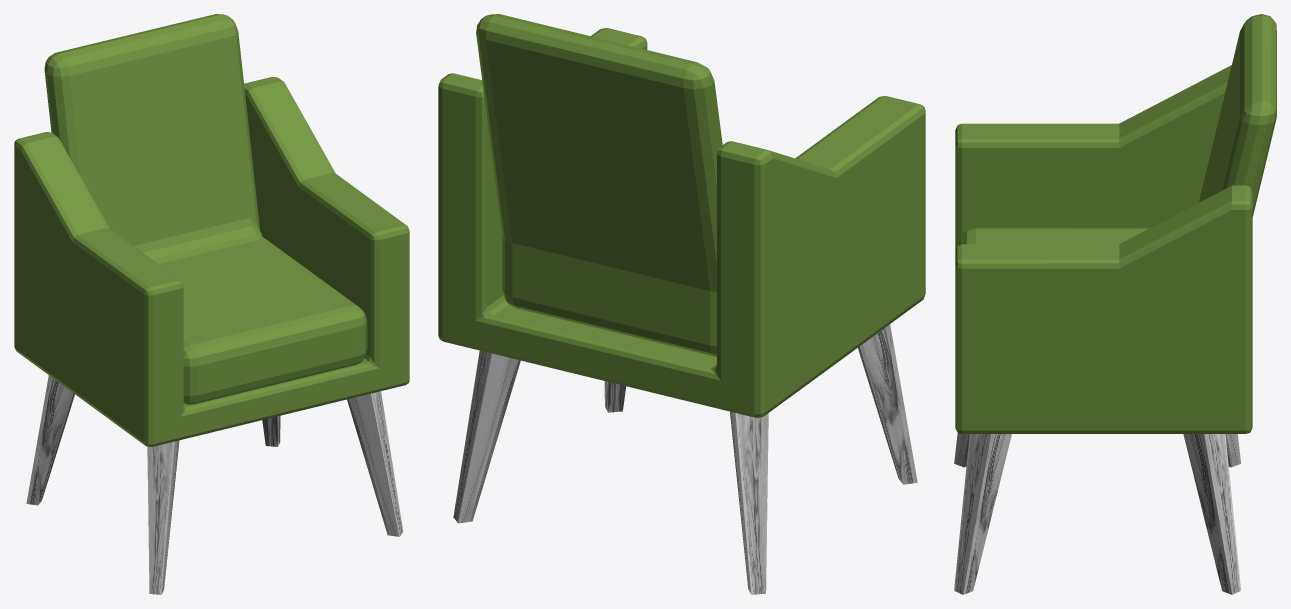
The model's file is Chair.fbx.
The picture shows the model from 3 angles, left to right: view 1: azimuth 30°, elevation 25°; view 2: azimuth 150°, elevation 25°; view 3: azimuth 270°, elevation 25°; orthographic projection. The views are drawn at different scales.
Parts seen in each view (by area): view 1: Cube.008; view 2: Cube.008; view 3: Cube.008.
Part boxes in pixels (x1,y1,x2,y2): Cube.008: (14,14,409,594); Cube.008: (438,14,925,594); Cube.008: (954,14,1276,594).
Size of the model in its own units: 74.47 by 115 by 71.8.
2 materials, 1 textured.
